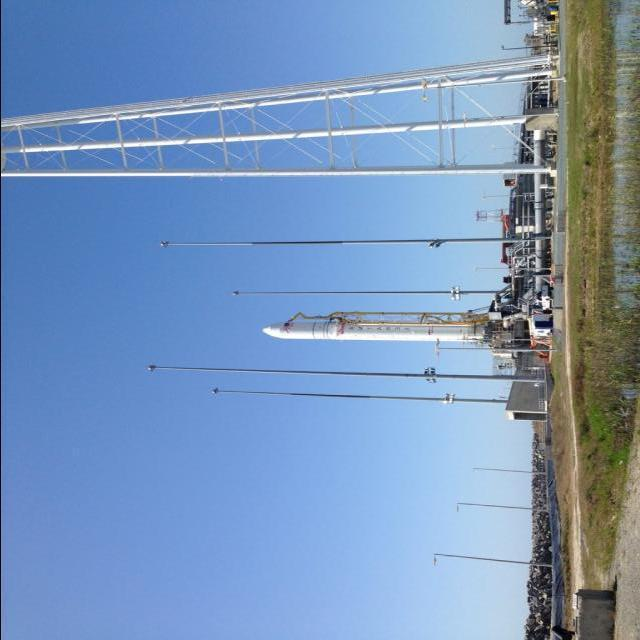missile: (254, 308, 503, 345)
